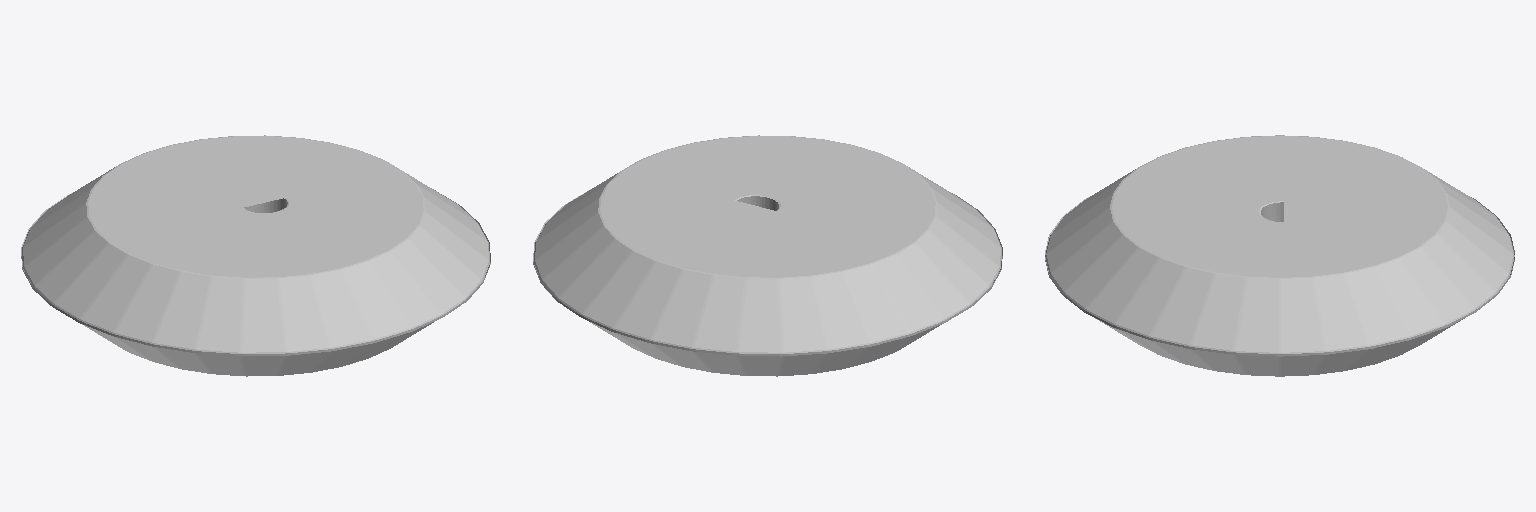
Rendered from gruz1.obj.
3 views of the same model, side by side, from view 1: azimuth 30°, elevation 25°; view 2: azimuth 150°, elevation 25°; view 3: azimuth 270°, elevation 25° (orthographic).
Visible parts, largest first — view 1: Cylinder.005_Cylinder.010; view 2: Cylinder.005_Cylinder.010; view 3: Cylinder.005_Cylinder.010.
Boxes of the visible parts, x1=… form: Cylinder.005_Cylinder.010: x1=21, y1=135, x2=490, y2=376; Cylinder.005_Cylinder.010: x1=533, y1=135, x2=1002, y2=376; Cylinder.005_Cylinder.010: x1=1045, y1=135, x2=1514, y2=376.
Bounding box in the file's own units: 0.6534 × 0.1505 × 0.6534.